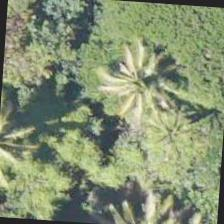Kelapa_Sawit: (96, 34, 192, 130)
